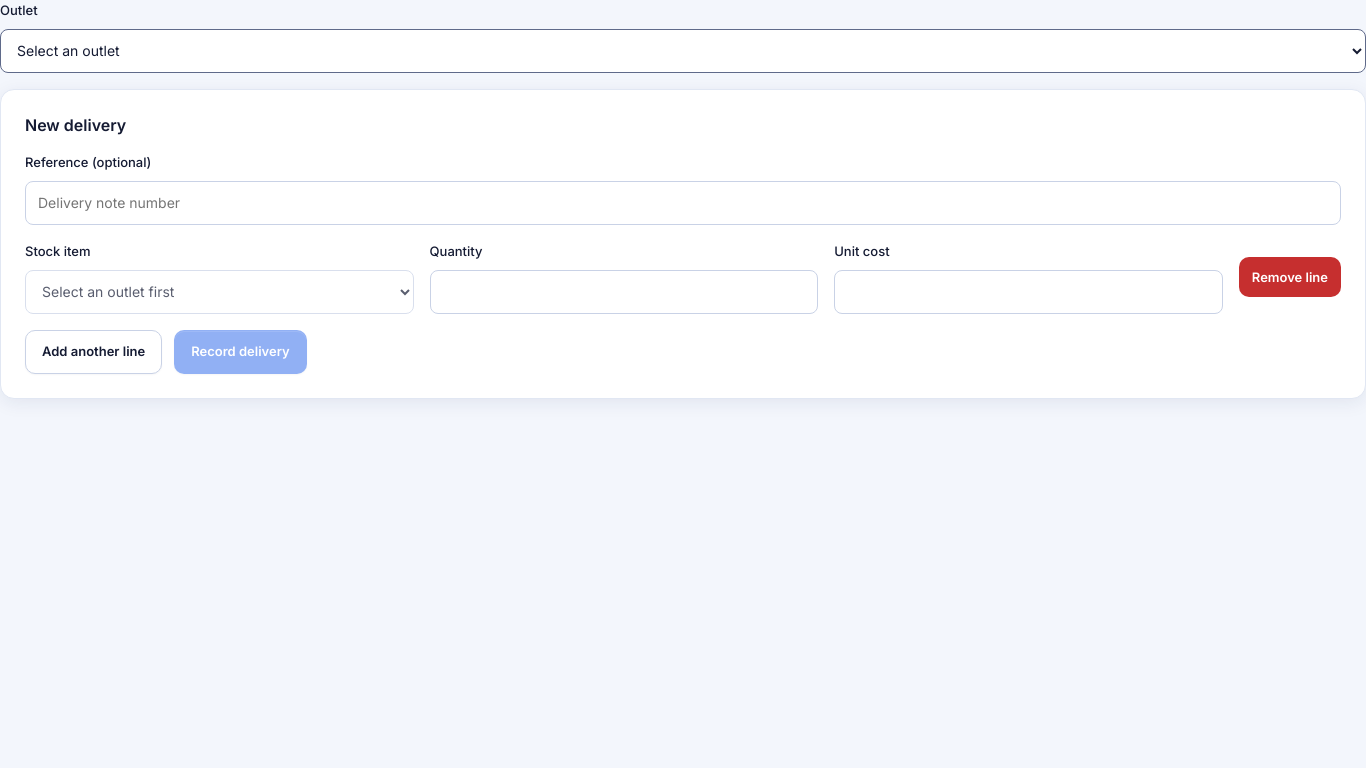
Test: <StockGoodsReceivedTab> › records a real delivery and shows the real result, including the new cost and quantity
Select "Main Bar" in the dropdown labelled "Outlet". click: {"x": 683, "y": 51}
box: [0, 29, 1365, 73]
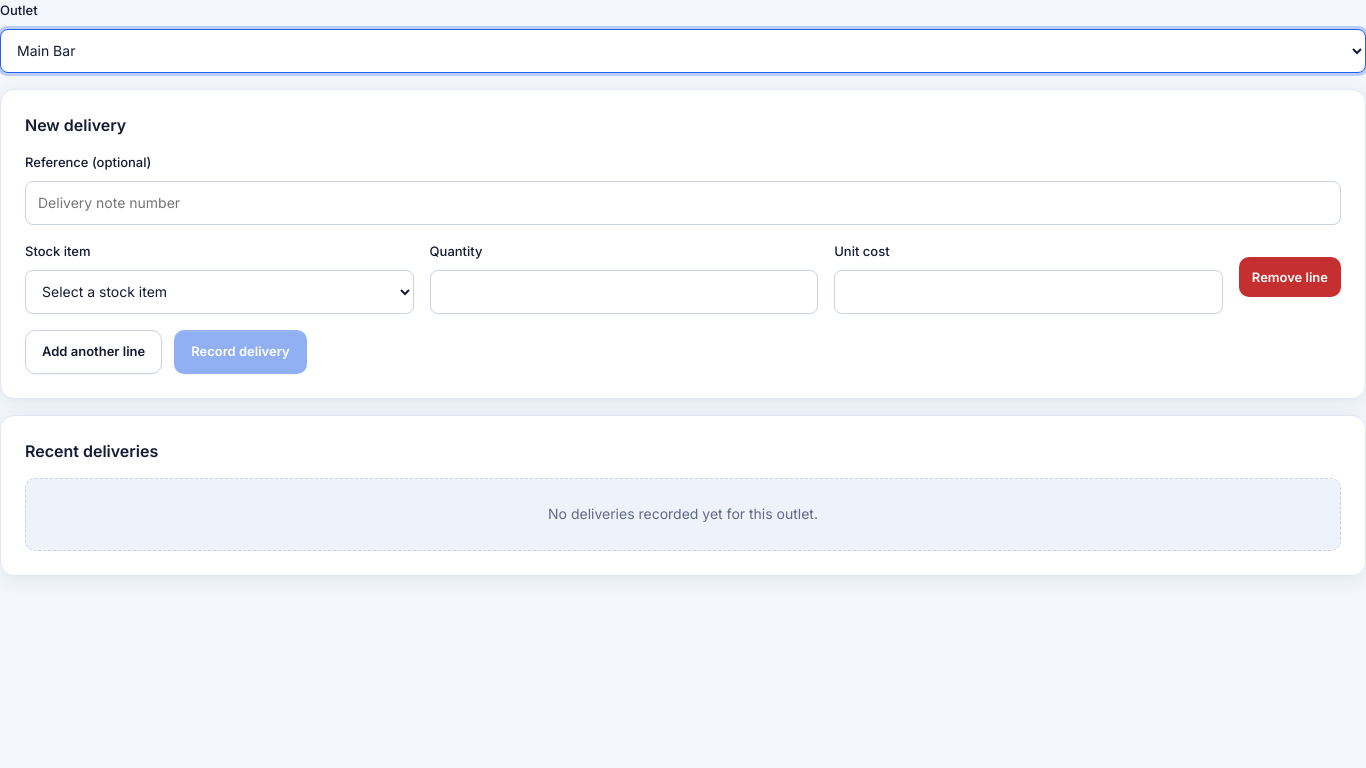
Expected: the heading "New delivery" is shown, [25, 115, 126, 135]
Type "DN-1" into the field labelled "Reference (optional)". click: {"x": 683, "y": 203}
box: [25, 181, 1341, 225]
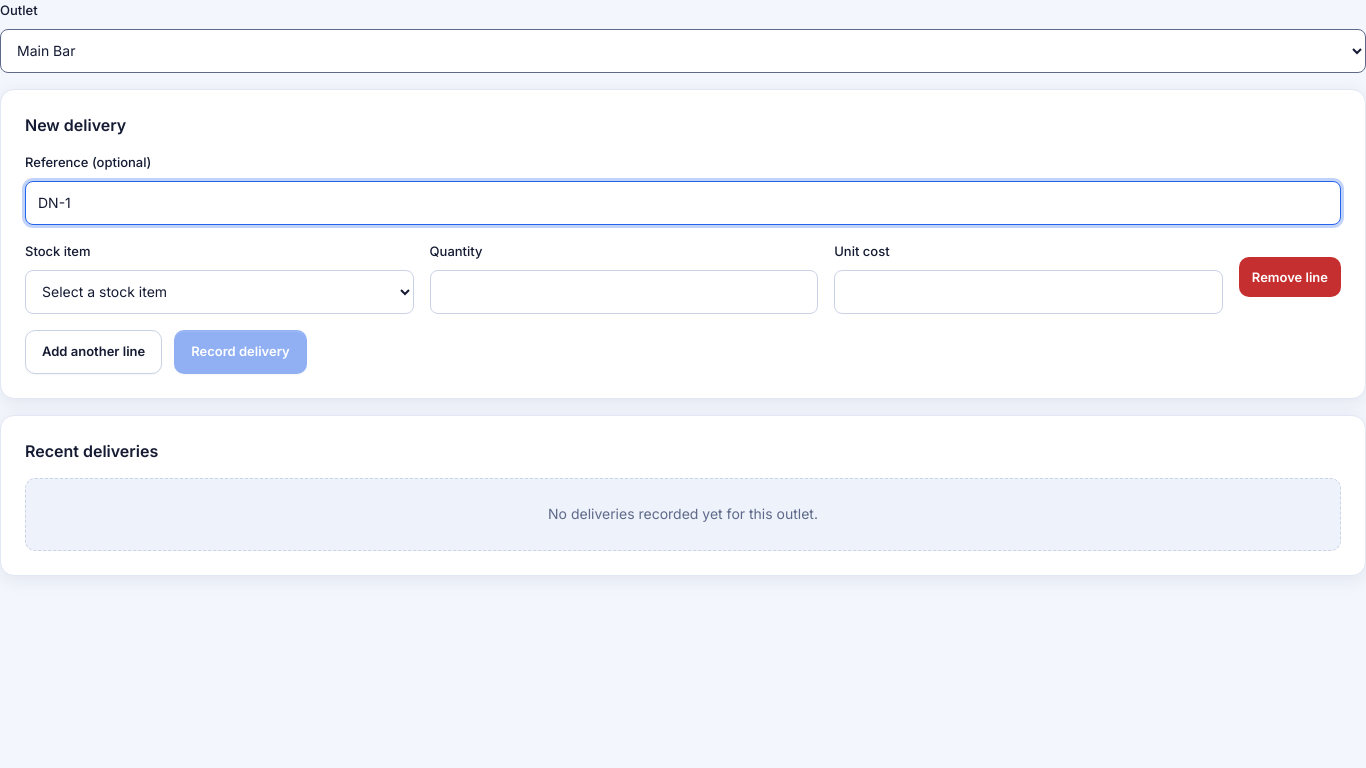
Select "Vodka (ml)" in the dropdown labelled "Stock item". click: {"x": 219, "y": 292}
box: [25, 270, 414, 314]
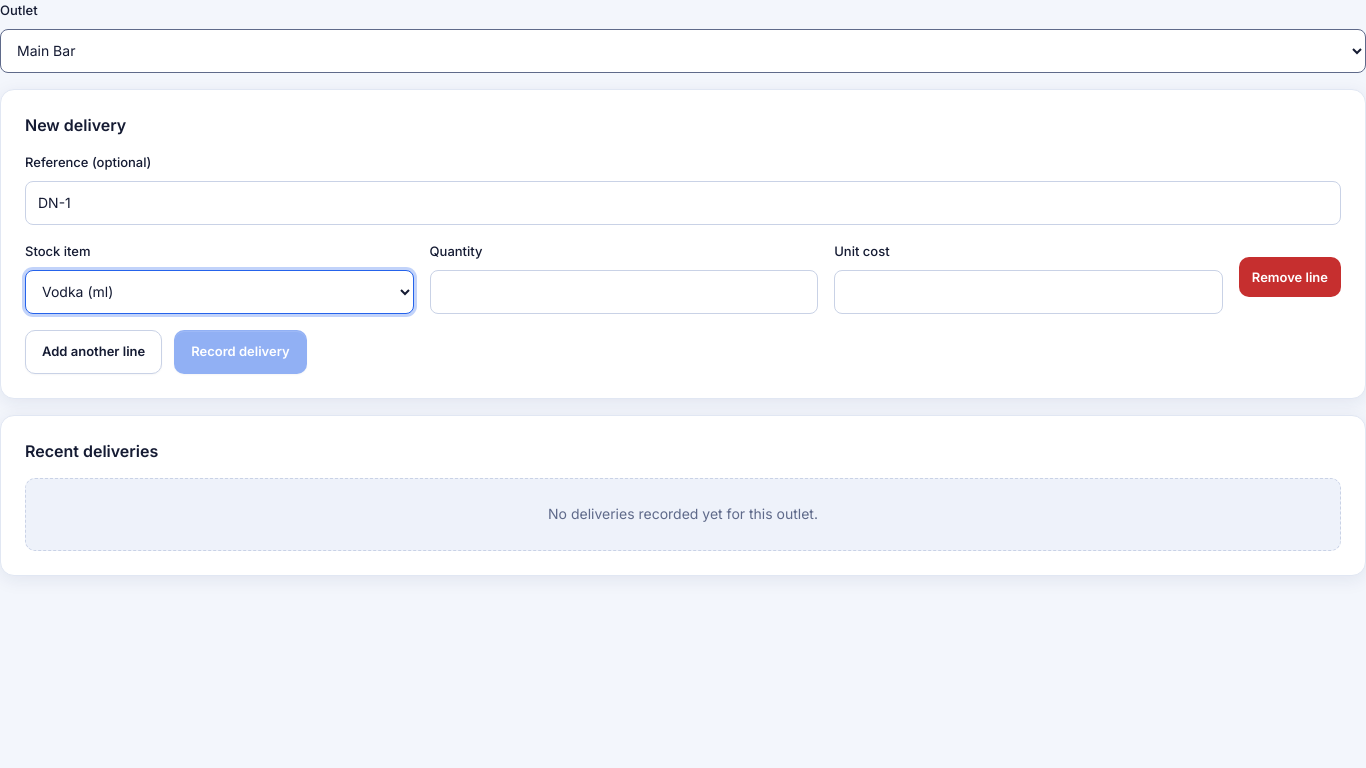
Type "10" into the number field labelled "Quantity". click: {"x": 624, "y": 292}
box: [430, 270, 818, 314]
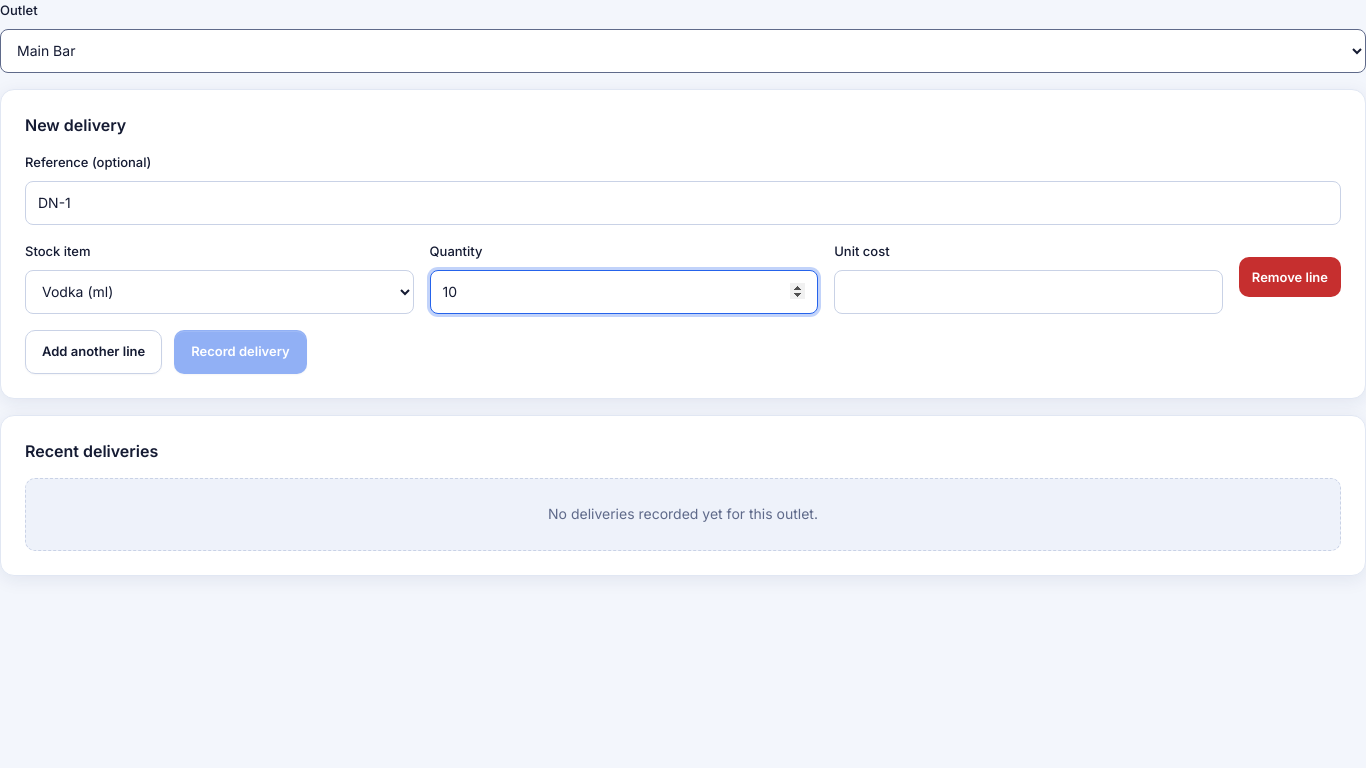
Type "6.50" into the number field labelled "Unit cost". click: {"x": 1028, "y": 292}
box: [834, 270, 1223, 314]
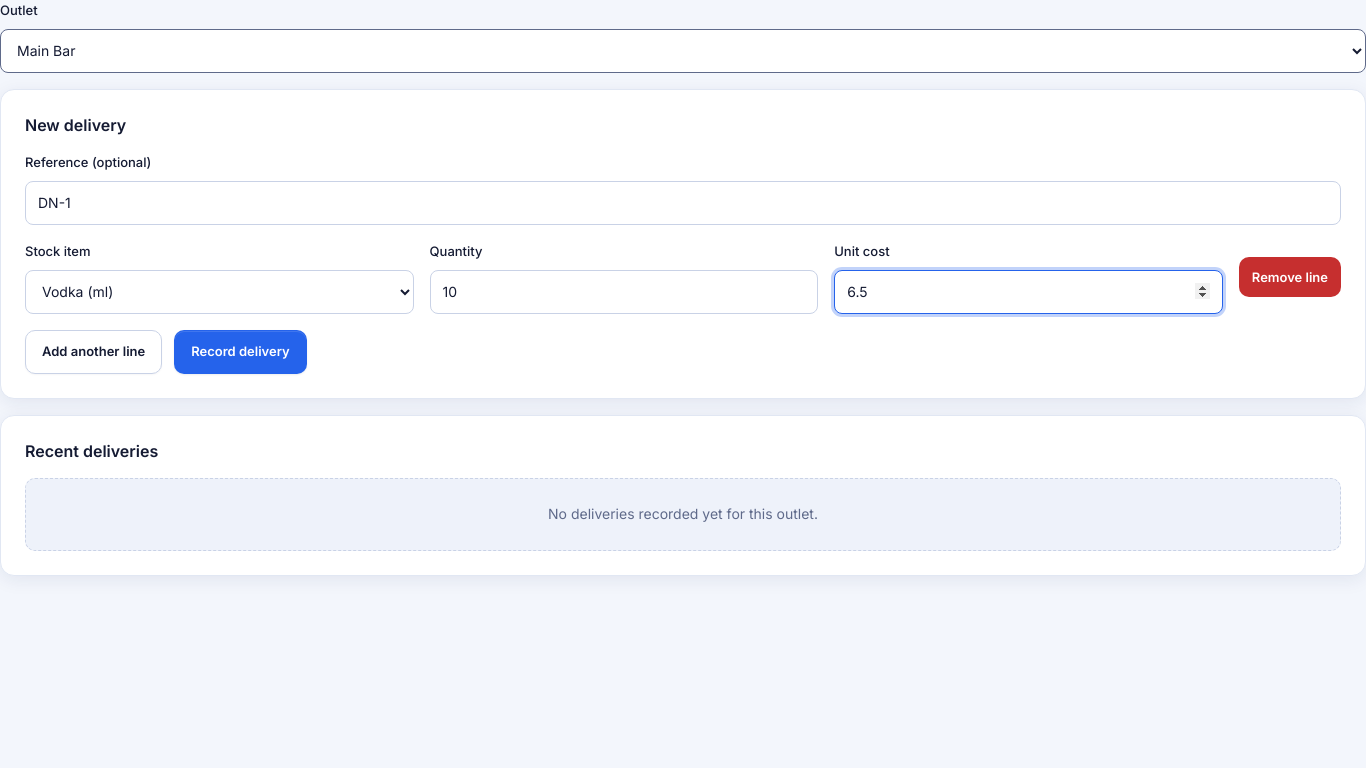
Click the button "Record delivery". click: {"x": 241, "y": 352}
box: [174, 330, 307, 374]
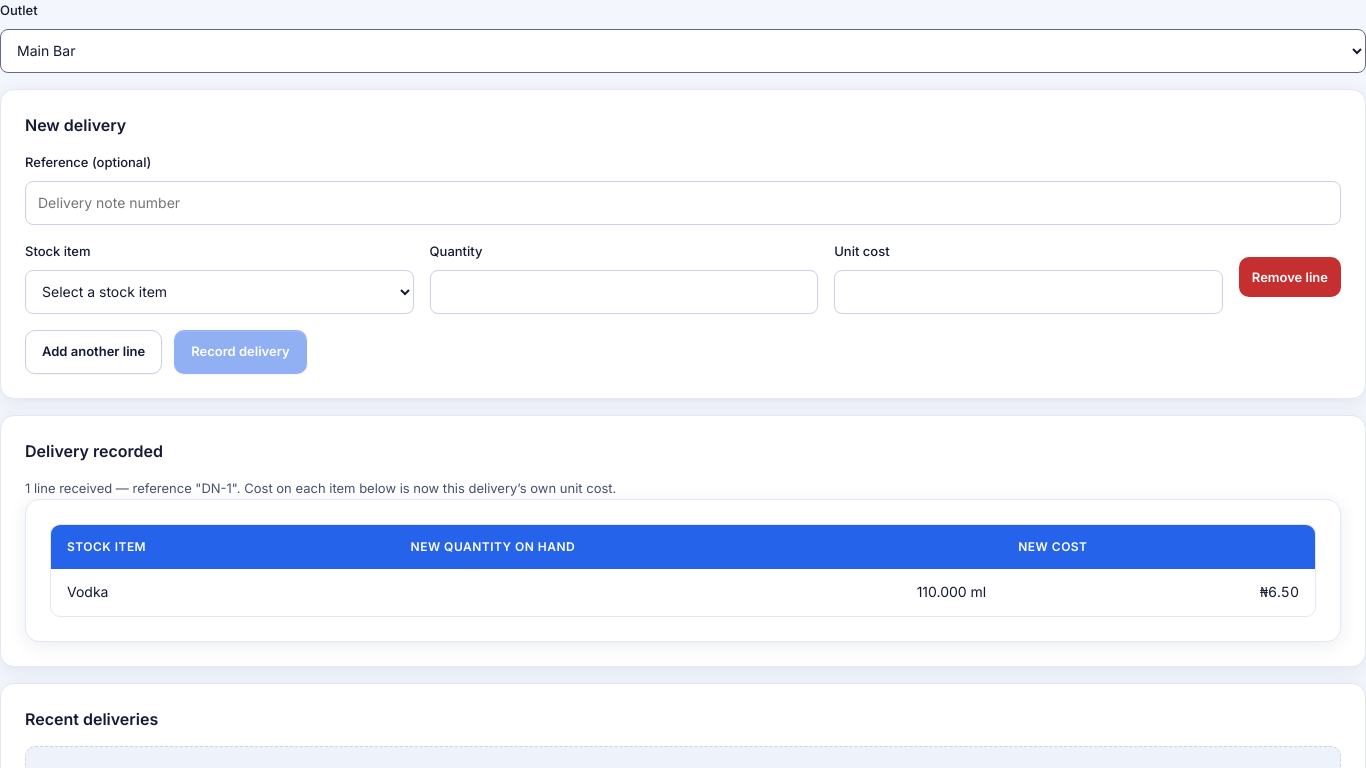
Result: the text "reference \"DN-1\"" is shown at [112, 480, 237, 496]
Result: the text "110.000 ml" is shown at [395, 569, 1002, 616]
Result: the text "₦6.50" is shown at [1260, 583, 1299, 600]
